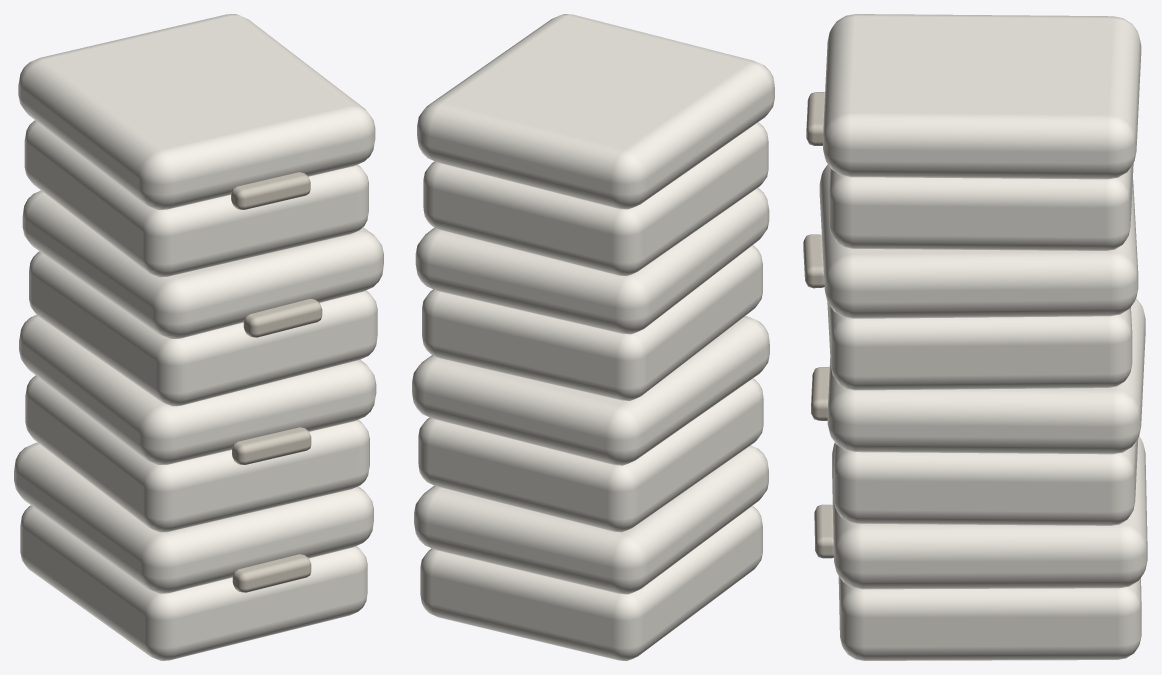
Rendered from SM_BurgerBoxStack4.glb.
3 views of the same model, side by side, from view 1: azimuth 30°, elevation 25°; view 2: azimuth 150°, elevation 25°; view 3: azimuth 270°, elevation 25° (orthographic). The views are drawn at different scales.
Visible parts, largest first — view 1: SM_BurgerBoxStack4; view 2: SM_BurgerBoxStack4; view 3: SM_BurgerBoxStack4.
Part boxes in pixels (x1,y1,x2,y2): SM_BurgerBoxStack4: [14, 14, 383, 660]; SM_BurgerBoxStack4: [412, 14, 774, 660]; SM_BurgerBoxStack4: [803, 14, 1147, 660].
Size of the model in its own units: 0.1467 by 0.299 by 0.1712.
1 material, 1 textured.
